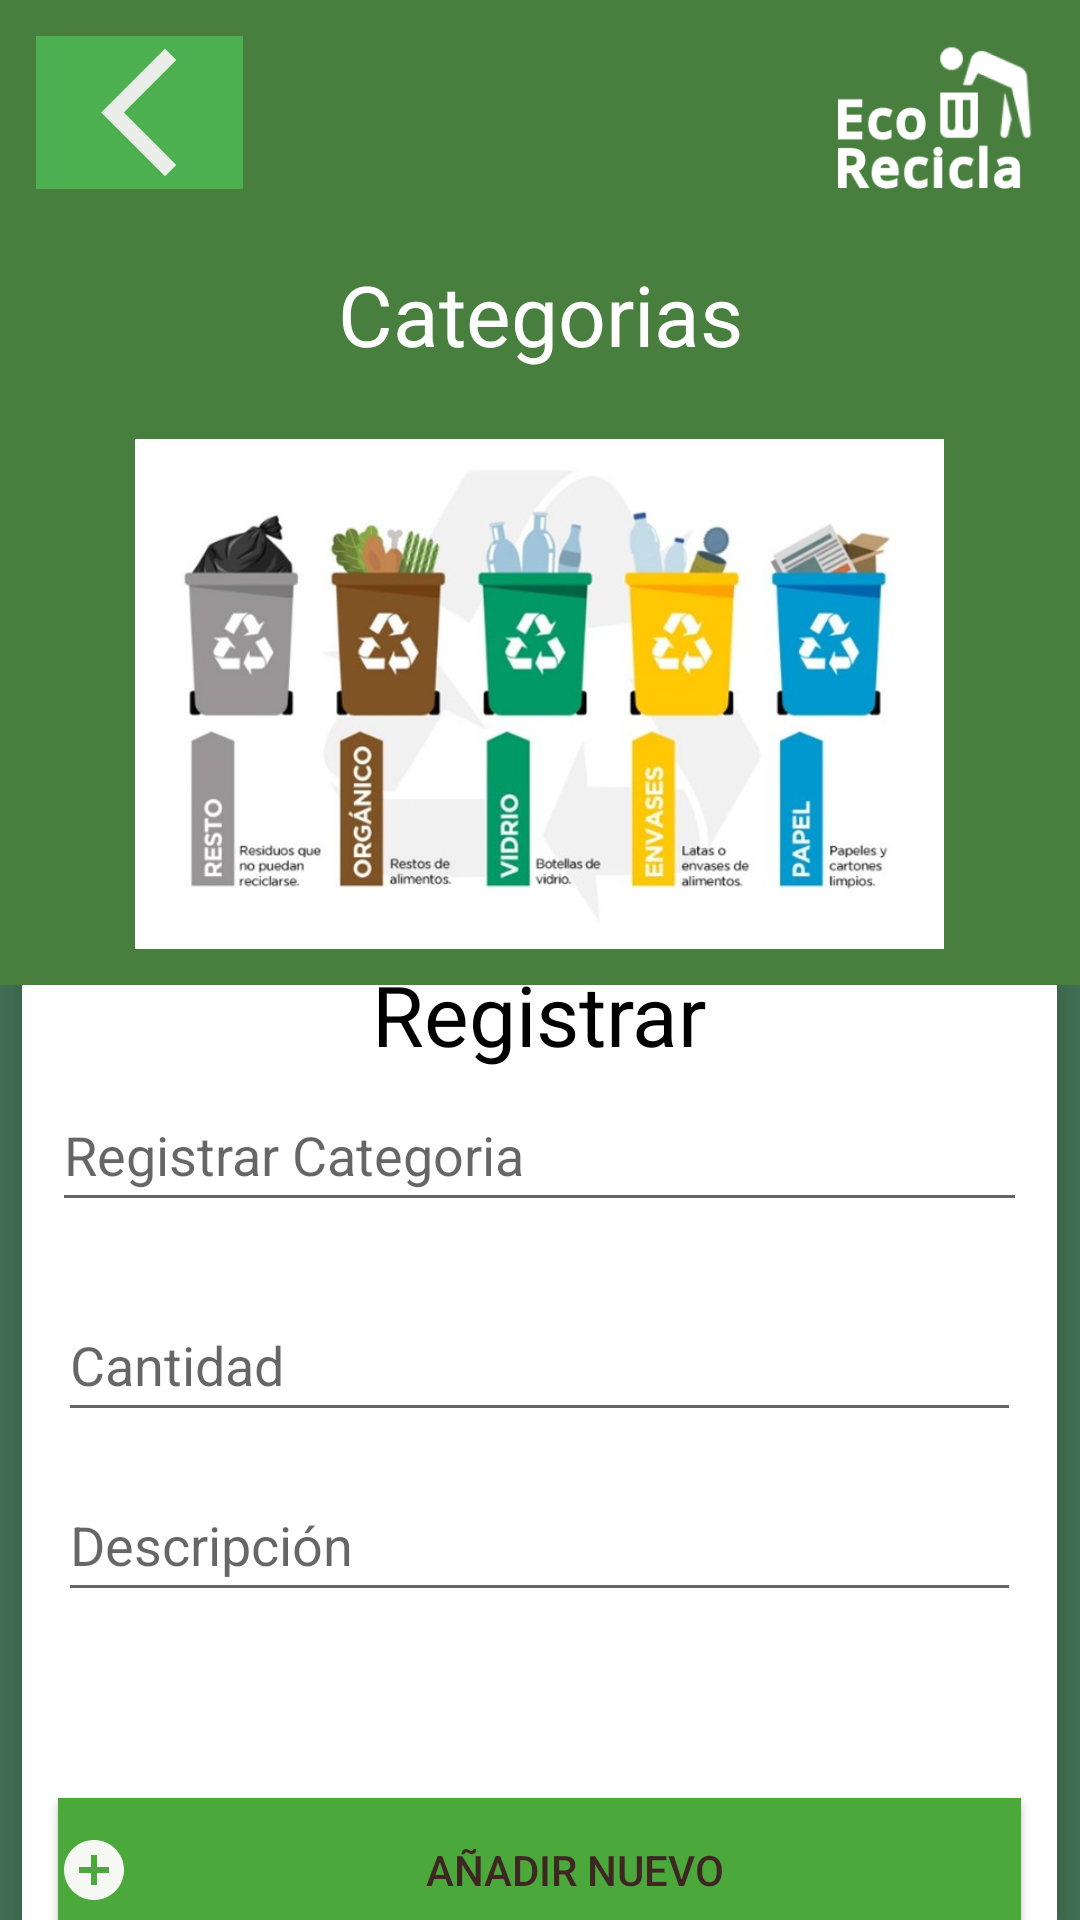

Screen size 1080w x 1920h. Icon name, then its center in pixels as (x=x, y=y):
back: (x=139, y=112)
